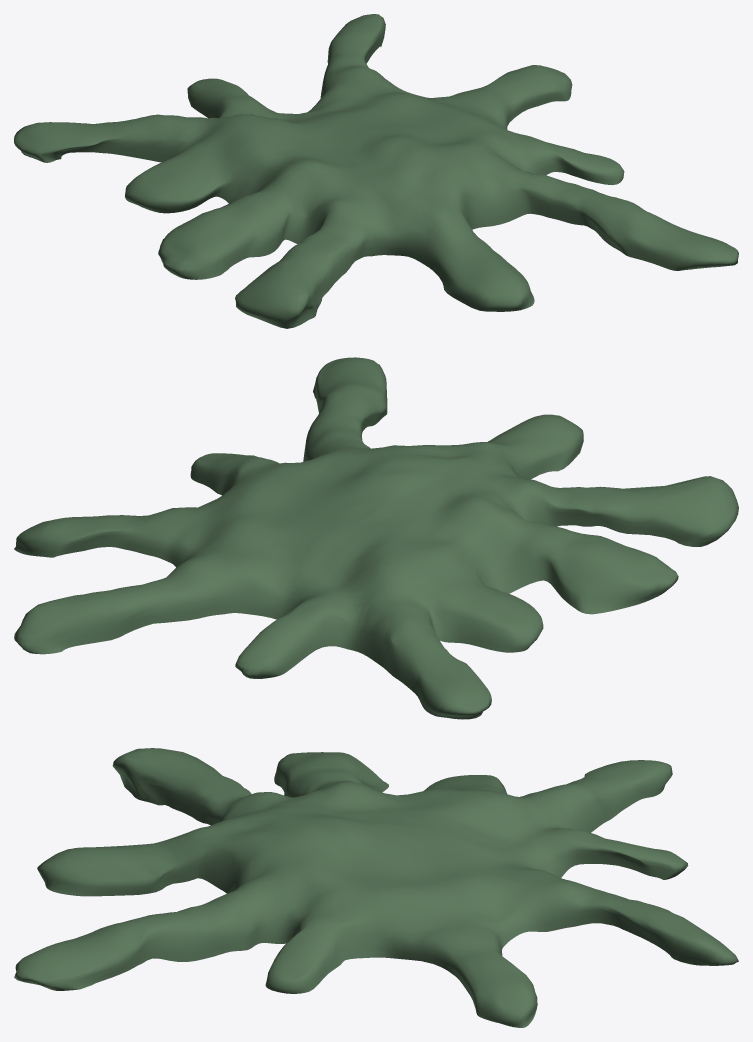
Rendered from Slime Estirado.fbx.
3 renders of one model, top to bottom at view 1: azimuth 30°, elevation 25°; view 2: azimuth 150°, elevation 25°; view 3: azimuth 270°, elevation 25°, orthographic. The views are drawn at different scales.
Parts seen in each view (by area): view 1: pPlane1; view 2: pPlane1; view 3: pPlane1.
Boxes of the visible parts, <box> form: pPlane1: <box>14,14,738,328</box>; pPlane1: <box>14,357,738,719</box>; pPlane1: <box>14,748,738,1027</box>.
Size of the model in its own units: 5.43 by 0.7057 by 6.45.
